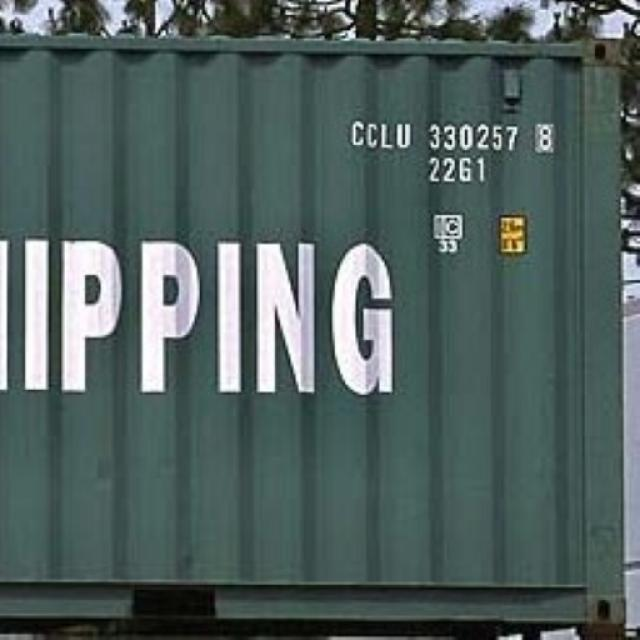ISO: (432, 156, 488, 186)
container_number: (358, 118, 550, 156)
